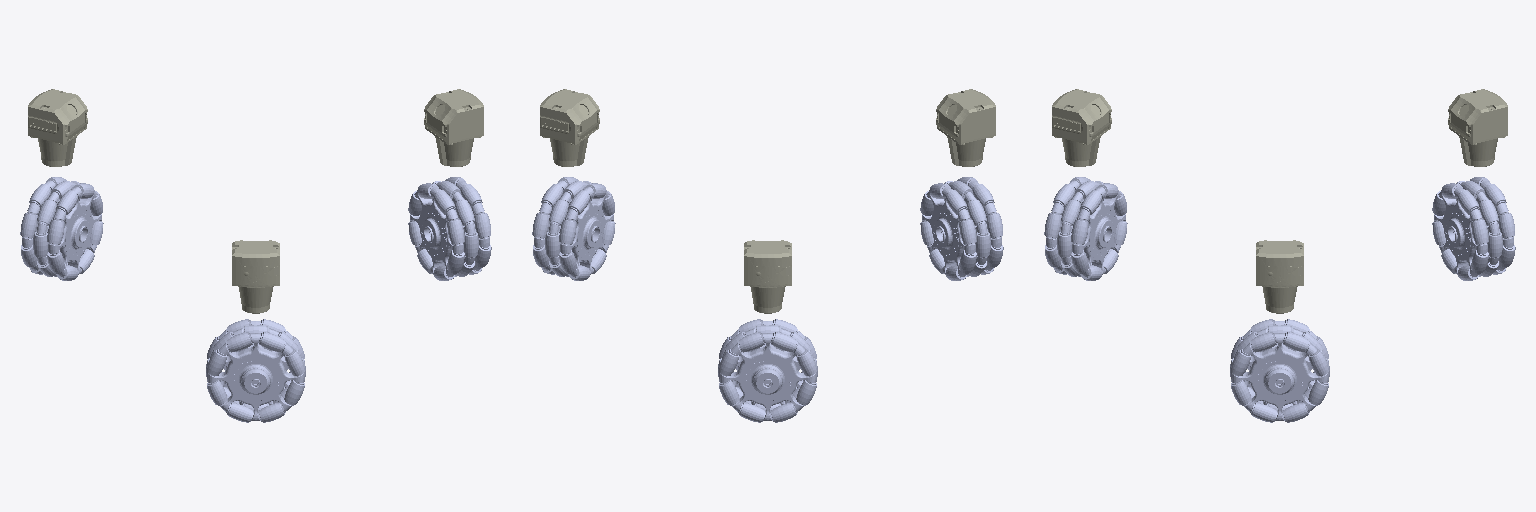
The robot description file, URDF, robot "vkistbot":
<?xml version="1.0" encoding="utf-8"?>
<!-- This URDF was automatically created by SolidWorks to URDF Exporter! Originally created by [author] ([email redacted]) 
     Commit Version: 1.6.0-4-g7f85cfe  Build Version: 1.6.7995.38578
     For more information, please see http://wiki.ros.org/sw_urdf_exporter -->
<robot
  name="vkistbot">
  <link
    name="base_link">
    <inertial>
      <origin
        xyz="0.0264720080552675 0.00636027262749129 -0.0145587340672248"
        rpy="0 0 0" />
      <mass
        value="50.3956203340288" />
      <inertia
        ixx="0.0328986739540233"
        ixy="-0.00010094599637733"
        ixz="0.000607991904543047"
        iyy="0.030095072251336"
        iyz="-8.76242199336185E-07"
        izz="0.0528725136188193" />
    </inertial>
    <visual>
      <origin
        xyz="0 0 0"
        rpy="0 0 0" />
      <geometry>
        <mesh
          filename="package://vkistbot/meshes/base_link.STL" />
      </geometry>
      <material
        name="">
        <color
          rgba="0.792156862745098 0.819607843137255 0.933333333333333 1" />
      </material>
    </visual>
    <collision>
      <origin
        xyz="0 0 0"
        rpy="0 0 0" />
      <geometry>
        <mesh
          filename="package://vkistbot/meshes/base_link.STL" />
      </geometry>
    </collision>
  </link>
  <link
    name="wheel1_link">
    <inertial>
      <origin
        xyz="1.6513E-05 8.1128E-08 -0.00052191"
        rpy="0 0 0" />
      <mass
        value="0.47539" />
      <inertia
        ixx="0.00054586"
        ixy="2.4783E-08"
        ixz="-4.2208E-08"
        iyy="0.00054579"
        iyz="4.0001E-09"
        izz="0.0008635" />
    </inertial>
    <visual>
      <origin
        xyz="0 0 0"
        rpy="0 0 0" />
      <geometry>
        <mesh
          filename="package://vkistbot/meshes/wheel1_link.STL" />
      </geometry>
      <material
        name="">
        <color
          rgba="0.79216 0.81961 0.93333 1" />
      </material>
    </visual>
    <collision>
      <origin
        xyz="0 0 0"
        rpy="0 0 0" />
      <geometry>
        <mesh
          filename="package://vkistbot/meshes/wheel1_link.STL" />
      </geometry>
    </collision>
  </link>
  <joint
    name="wheel1_joint"
    type="continuous">
    <origin
      xyz="0.28 -5.7693E-05 -0.12"
      rpy="-1.5708 0 1.5708" />
    <parent
      link="base_link" />
    <child
      link="wheel1_link" />
    <axis
      xyz="0 0 1" />
  </joint>
  <link
    name="wheel2_link">
    <inertial>
      <origin
        xyz="1.6439E-05 6.6417E-08 -0.00052186"
        rpy="0 0 0" />
      <mass
        value="0.47539" />
      <inertia
        ixx="0.00054586"
        ixy="2.4751E-08"
        ixz="-4.2182E-08"
        iyy="0.00054579"
        iyz="3.8018E-09"
        izz="0.0008635" />
    </inertial>
    <visual>
      <origin
        xyz="0 0 0"
        rpy="0 0 0" />
      <geometry>
        <mesh
          filename="package://vkistbot/meshes/wheel2_link.STL" />
      </geometry>
      <material
        name="">
        <color
          rgba="0.79216 0.81961 0.93333 1" />
      </material>
    </visual>
    <collision>
      <origin
        xyz="0 0 0"
        rpy="0 0 0" />
      <geometry>
        <mesh
          filename="package://vkistbot/meshes/wheel2_link.STL" />
      </geometry>
    </collision>
  </link>
  <joint
    name="wheel2_joint"
    type="continuous">
    <origin
      xyz="-0.13995 0.24252 -0.12"
      rpy="-1.5708 0 -2.618" />
    <parent
      link="base_link" />
    <child
      link="wheel2_link" />
    <axis
      xyz="0 0 1" />
  </joint>
  <link
    name="wheel3_link">
    <inertial>
      <origin
        xyz="1.6513E-05 8.1127E-08 -0.00052191"
        rpy="0 0 0" />
      <mass
        value="0.47539" />
      <inertia
        ixx="0.00054586"
        ixy="2.4783E-08"
        ixz="-4.2208E-08"
        iyy="0.00054579"
        iyz="4.0001E-09"
        izz="0.0008635" />
    </inertial>
    <visual>
      <origin
        xyz="0 0 0"
        rpy="0 0 0" />
      <geometry>
        <mesh
          filename="package://vkistbot/meshes/wheel3_link.STL" />
      </geometry>
      <material
        name="">
        <color
          rgba="0.79216 0.81961 0.93333 1" />
      </material>
    </visual>
    <collision>
      <origin
        xyz="0 0 0"
        rpy="0 0 0" />
      <geometry>
        <mesh
          filename="package://vkistbot/meshes/wheel3_link.STL" />
      </geometry>
    </collision>
  </link>
  <joint
    name="wheel3_joint"
    type="continuous">
    <origin
      xyz="-0.14005 -0.24246 -0.12"
      rpy="-1.5708 0 -0.5236" />
    <parent
      link="base_link" />
    <child
      link="wheel3_link" />
    <axis
      xyz="0 0 1" />
  </joint>
  <link
    name="lidar1_link">
    <inertial>
      <origin
        xyz="-0.26605 -0.005567 0.018661"
        rpy="0 0 0" />
      <mass
        value="13.955" />
      <inertia
        ixx="0.36403"
        ixy="0.00096174"
        ixz="0.03834"
        iyy="0.38996"
        iyz="0.0011433"
        izz="0.51323" />
    </inertial>
    <visual>
      <origin
        xyz="0 0 0"
        rpy="0 0 0" />
      <geometry>
        <mesh
          filename="package://vkistbot/meshes/lidar1_link.STL" />
      </geometry>
      <material
        name="">
        <color
          rgba="0.7098 0.7098 0.6549 1" />
      </material>
    </visual>
    <collision>
      <origin
        xyz="0 0 0"
        rpy="0 0 0" />
      <geometry>
        <mesh
          filename="package://vkistbot/meshes/lidar1_link.STL" />
      </geometry>
    </collision>
  </link>
  <joint
    name="lidar1_joint"
    type="fixed">
    <origin
      xyz="0.289 -5.9193E-05 -0.00646"
      rpy="3.1416 0 0" />
    <parent
      link="base_link" />
    <child
      link="lidar1_link" />
    <axis
      xyz="0 0 0" />
  </joint>
  <link
    name="lidar2_link">
    <inertial>
      <origin
        xyz="-0.29571 0.022572 0.018661"
        rpy="0 0 0" />
      <mass
        value="13.955" />
      <inertia
        ixx="0.38431"
        ixy="0.010749"
        ixz="-0.02016"
        iyy="0.36968"
        iyz="0.032632"
        izz="0.51323" />
    </inertial>
    <visual>
      <origin
        xyz="0 0 0"
        rpy="0 0 0" />
      <geometry>
        <mesh
          filename="package://vkistbot/meshes/lidar2_link.STL" />
      </geometry>
      <material
        name="">
        <color
          rgba="0.7098 0.7098 0.6549 1" />
      </material>
    </visual>
    <collision>
      <origin
        xyz="0 0 0"
        rpy="0 0 0" />
      <geometry>
        <mesh
          filename="package://vkistbot/meshes/lidar2_link.STL" />
      </geometry>
    </collision>
  </link>
  <joint
    name="lidar2_joint"
    type="fixed">
    <origin
      xyz="-0.14445 0.25031 -0.00646"
      rpy="3.1416 0 2.0944" />
    <parent
      link="base_link" />
    <child
      link="lidar2_link" />
    <axis
      xyz="0 0 0" />
  </joint>
  <link
    name="lidar3_link">
    <inertial>
      <origin
        xyz="-0.30525 -0.017183 0.018661"
        rpy="0 0 0" />
      <mass
        value="13.955" />
      <inertia
        ixx="0.38264"
        ixy="-0.011711"
        ixz="-0.01818"
        iyy="0.37134"
        iyz="-0.033775"
        izz="0.51323" />
    </inertial>
    <visual>
      <origin
        xyz="0 0 0"
        rpy="0 0 0" />
      <geometry>
        <mesh
          filename="package://vkistbot/meshes/lidar3_link.STL" />
      </geometry>
      <material
        name="">
        <color
          rgba="0.7098 0.7098 0.6549 1" />
      </material>
    </visual>
    <collision>
      <origin
        xyz="0 0 0"
        rpy="0 0 0" />
      <geometry>
        <mesh
          filename="package://vkistbot/meshes/lidar3_link.STL" />
      </geometry>
    </collision>
  </link>
  <joint
    name="lidar3_joint"
    type="fixed">
    <origin
      xyz="-0.14455 -0.25025 -0.00646"
      rpy="3.1416 0 -2.0944" />
    <parent
      link="base_link" />
    <child
      link="lidar3_link" />
    <axis
      xyz="0 0 0" />
  </joint>

  <gazebo>
    <plugin name="gazebo_ros_control" filename="libgazebo_ros_control.so">
      <robotNamespace>/vkistbot</robotNamespace>
      <robotSimType>gazebo_ros_control/DefaultRobotHWSim</robotSimType>
    </plugin>
  </gazebo>
  
  <gazebo reference="lidar1_link">
    <turnGravityOff>true</turnGravityOff>
    <material>Gazebo/Blue</material>
    <sensor type="ray" name="head_hokuyo_sensor">
      <pose>0 0 -1 0 0 0</pose>
      <visualize>true</visualize>
      <update_rate>15</update_rate>
      <ray>
        <scan>
          <horizontal>
            <samples>100</samples>
            <resolution>1</resolution>
            <min_angle>-1.5708</min_angle>
            <max_angle>1.5708</max_angle>
          </horizontal>
        </scan>
        <range>
          <min>0.10</min>
          <max>15.0</max>
          <resolution>0.01</resolution>
        </range>
        <noise>
          <type>gaussian</type>
          <mean>0.0</mean>
          <stddev>0.01</stddev>
        </noise>
      </ray>
      <plugin name="gazebo_ros_head_hokuyo_controller" filename="libgazebo_ros_laser.so">
        <topicName>scan1</topicName>
        <frameName>lidar1_link</frameName>
      </plugin>
    </sensor>
  </gazebo>

  <!-- <gazebo reference="lidar2_link">
    <material>Gazebo/Yellow</material>
    <sensor type="ray" name="sick_tim310_sensor" update_rate="30">
      <pose>0 0 0 0 0 0</pose>
      <visualize>true</visualize>
      <ray>
        <scan>
          <horizontal>
            <samples>720</samples>
            <resolution>1</resolution>
            <min_angle>-2.0</min_angle>
            <max_angle>2.0</max_angle>
          </horizontal>
        </scan>
        <range>
          <min>0.10</min>
          <max>4.0</max>
          <resolution>1</resolution>
        </range>
        <noise>
          <type>gaussian</type>
          <mean>0.0</mean>
          <stddev>0.01</stddev>
        </noise>
      </ray>
      <plugin name="gazebo_ros_sick_tim_controller" filename="libgazebo_ros_laser.so">
        <topicName>scan2</topicName>
        <frameName>lidar_3</frameName>
      </plugin>
    </sensor>
  </gazebo>
 
  <gazebo reference="lidar3_link">
    <material>Gazebo/Red</material>
    <sensor type="ray" name="sick_tim551_sensor" update_rate="15">
      <pose>0 0 0 0 0 0</pose>
      <visualize>true</visualize>
      <ray>
        <scan>
          <horizontal>
            <samples>720</samples>
            <resolution>1</resolution>
            <min_angle>-2.0</min_angle>
            <max_angle>2.0</max_angle>
          </horizontal>
        </scan>
        <range>
          <min>0.10</min>
          <max>10.0</max>
          <resolution>1</resolution>
        </range>
        <noise>
          <type>gaussian</type>
          <mean>0.0</mean>
          <stddev>0.01</stddev>
        </noise>
      </ray>
      <plugin name="gazebo_ros_sick_tim_controller" filename="libgazebo_ros_laser.so">
        <topicName>scan3</topicName>
        <frameName>lidar_2</frameName>
      </plugin>
    </sensor>
  </gazebo> -->

<!--Gazebo-->
  <gazebo reference="wheel_1">
    <mu1>0.9</mu1>
    <mu2>0.9</mu2>
    <material>Gazebo/Red</material>
  </gazebo>
  <gazebo reference="wheel_2">
    <mu1>0.9</mu1>
    <mu2>0.9</mu2>
    <material>Gazebo/Green</material>
  </gazebo>
  <gazebo reference="wheel_3">
    <mu1>0.9</mu1>
    <mu2>0.9</mu2>
    <material>Gazebo/Blue</material>
  </gazebo>
  <gazebo reference="T265">
    <material>Gazebo/White</material>
  </gazebo>

 <!-- <transmission name="wheel_1_transmission">
    <type>transmission_interface/SimpleTransmission</type>
    <joint name="wheel1_joint">
      <hardwareInterface>hardware_interface/EffortJointInterface</hardwareInterface>
    </joint>
    <actuator name="wheel_1_motor">
      <hardwareInterface>hardware_interface/EffortJointInterface</hardwareInterface>
      <mechanicalReduction>1</mechanicalReduction>
    </actuator>
  </transmission>  

 <transmission name="wheel_2_transmission">
    <type>transmission_interface/SimpleTransmission</type>
    <joint name="wheel2_joint">
      <hardwareInterface>hardware_interface/EffortJointInterface</hardwareInterface>
    </joint>
    <actuator name="wheel_2_motor">
      <hardwareInterface>hardware_interface/EffortJointInterface</hardwareInterface>
      <mechanicalReduction>1</mechanicalReduction>
    </actuator>
  </transmission>  

 <transmission name="wheel_3_transmission">
    <type>transmission_interface/SimpleTransmission</type>
    <joint name="wheel3_joint">
      <hardwareInterface>hardware_interface/EffortJointInterface</hardwareInterface>
    </joint>
    <actuator name="wheel_3_motor">
      <hardwareInterface>hardware_interface/EffortJointInterface</hardwareInterface>
      <mechanicalReduction>1</mechanicalReduction>
    </actuator>
  </transmission> -->
  
  <gazebo>
    <plugin filename="libgazebo_ros_control.so" name="gazebo_ros_control">
      <robotNamespace></robotNamespace>
      <robotSimType>gazebo_ros_control/DefaultRobotHWSim</robotSimType>
    </plugin>
  </gazebo>
  <gazebo>
    <plugin name="omni_controller" filename="libgazebo_ros_planar_move.so">
      <commandTopic>cmd_vel</commandTopic>
      <odometryTopic>odom</odometryTopic>
      <odometryFrame>odom</odometryFrame>
      <odometryRate>50</odometryRate>
      <robotBaseFrame>base_link</robotBaseFrame>
    </plugin>
  </gazebo>  
</robot>

--- Render facts (derived) ---
3 views of the same robot in one strip: view 1: azimuth 30°, elevation 25°; view 2: azimuth 150°, elevation 25°; view 3: azimuth 270°, elevation 25° (orthographic).
Robot: vkistbot — 7 links, 6 joints (3 continuous, 3 fixed); root link base_link; default pose: all joints at 0.
Links seen in each view (by area): view 1: wheel3_link, wheel1_link, wheel2_link, lidar1_link, lidar2_link, lidar3_link; view 2: wheel2_link, wheel3_link, wheel1_link, lidar3_link, lidar1_link, lidar2_link; view 3: wheel1_link, wheel2_link, wheel3_link, lidar2_link, lidar3_link, lidar1_link.
Link boxes in pixels (x1,y1,x2,y2): wheel3_link: (206, 319, 305, 422); wheel1_link: (408, 177, 491, 280); wheel2_link: (20, 177, 103, 280); lidar1_link: (424, 89, 483, 166); lidar2_link: (28, 89, 87, 166); lidar3_link: (232, 240, 279, 313); wheel2_link: (718, 319, 817, 422); wheel3_link: (920, 177, 1003, 280); wheel1_link: (532, 177, 615, 280); lidar3_link: (936, 89, 995, 166); lidar1_link: (540, 89, 599, 166); lidar2_link: (744, 240, 791, 313); wheel1_link: (1230, 319, 1329, 422); wheel2_link: (1432, 177, 1515, 280); wheel3_link: (1044, 177, 1127, 280); lidar2_link: (1448, 89, 1507, 166); lidar3_link: (1052, 89, 1111, 166); lidar1_link: (1256, 240, 1303, 313).
Bounding box of the posed robot: 0.5223 × 0.5888 × 0.2384 m (x, y, z).
6 mesh visuals loaded from 7 distinct referenced files (6 binary STL); not drawn: 1 (reference not matched to a file when rendering).
